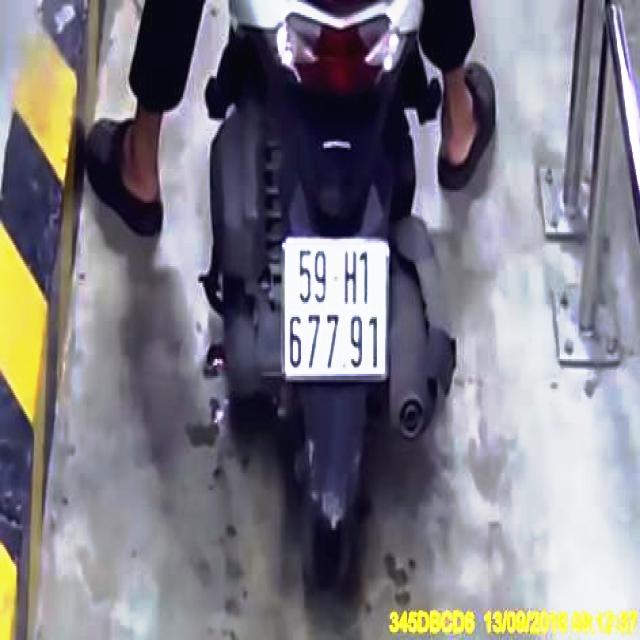license_plate: (284, 242, 390, 380)
